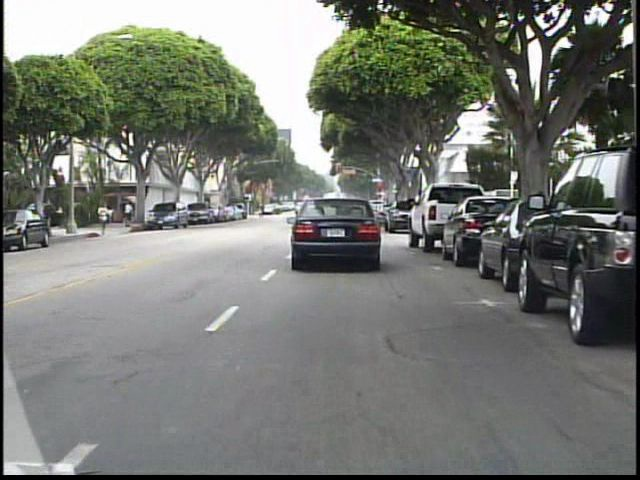person: (97, 199, 114, 238), (122, 198, 137, 232), (257, 200, 270, 221)
